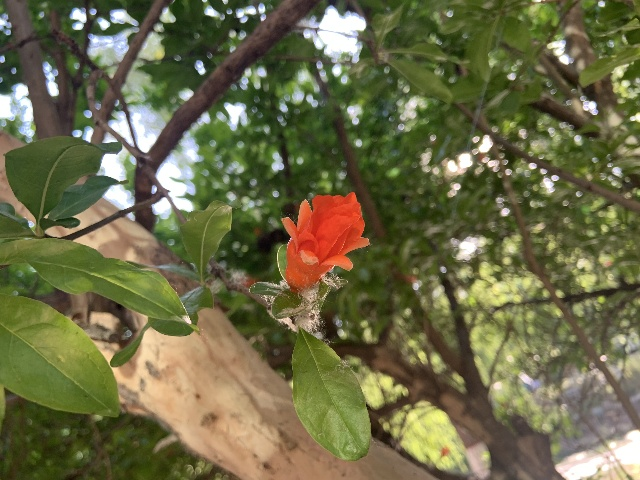flower: (281, 191, 369, 290)
